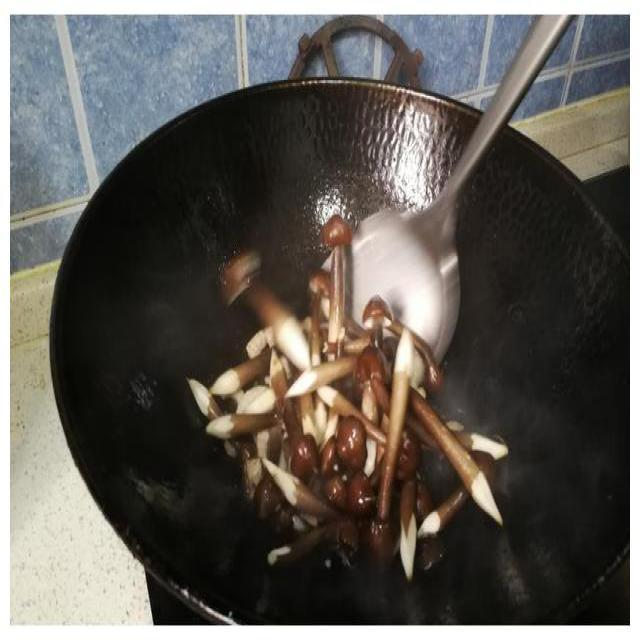Collybia albuminosa: (199, 223, 509, 575)
